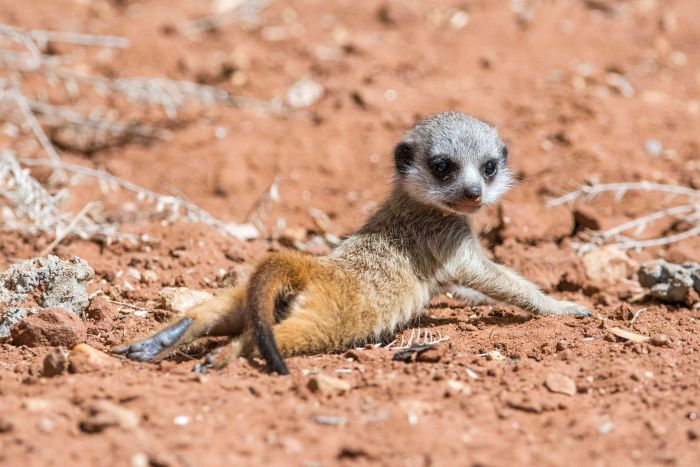meerkat: (149, 90, 623, 363)
